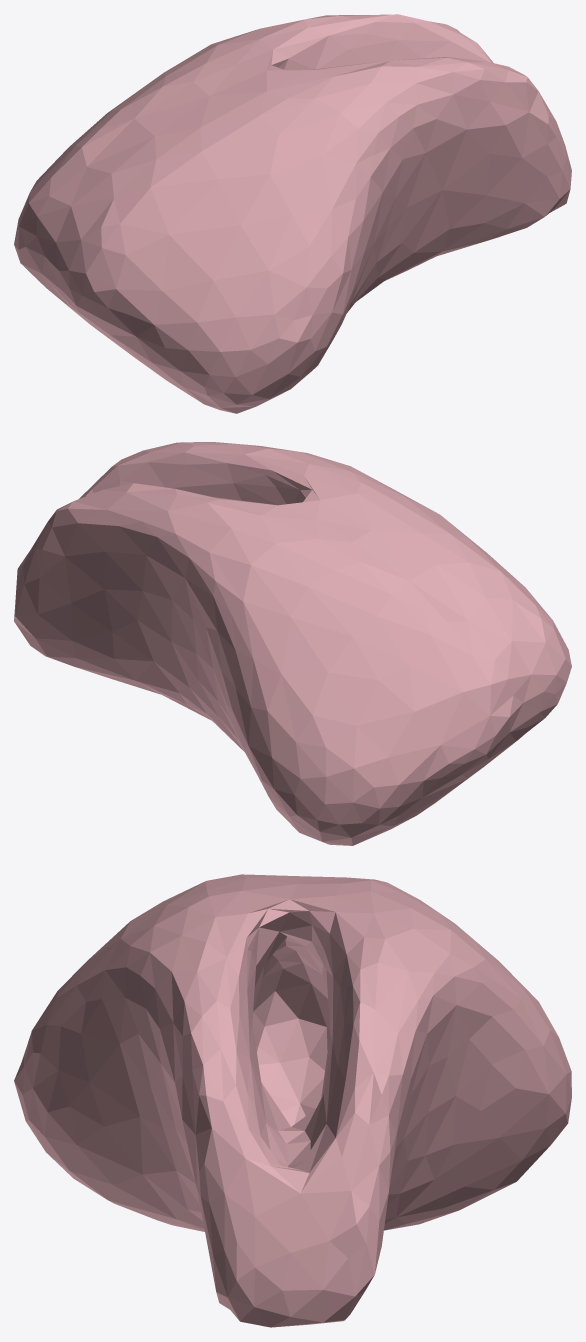
3 renders of one model, top to bottom at view 1: azimuth 30°, elevation 25°; view 2: azimuth 150°, elevation 25°; view 3: azimuth 270°, elevation 25°, orthographic. The views are drawn at different scales.
Visible parts, largest first — view 1: 181.obj; view 2: 181.obj; view 3: 181.obj.
Part boxes in pixels (x1,y1,x2,y2): 181.obj: (14, 14, 571, 413); 181.obj: (14, 442, 571, 845); 181.obj: (14, 874, 571, 1327).
Size of the model in its own units: 1419 by 781 by 1045.
